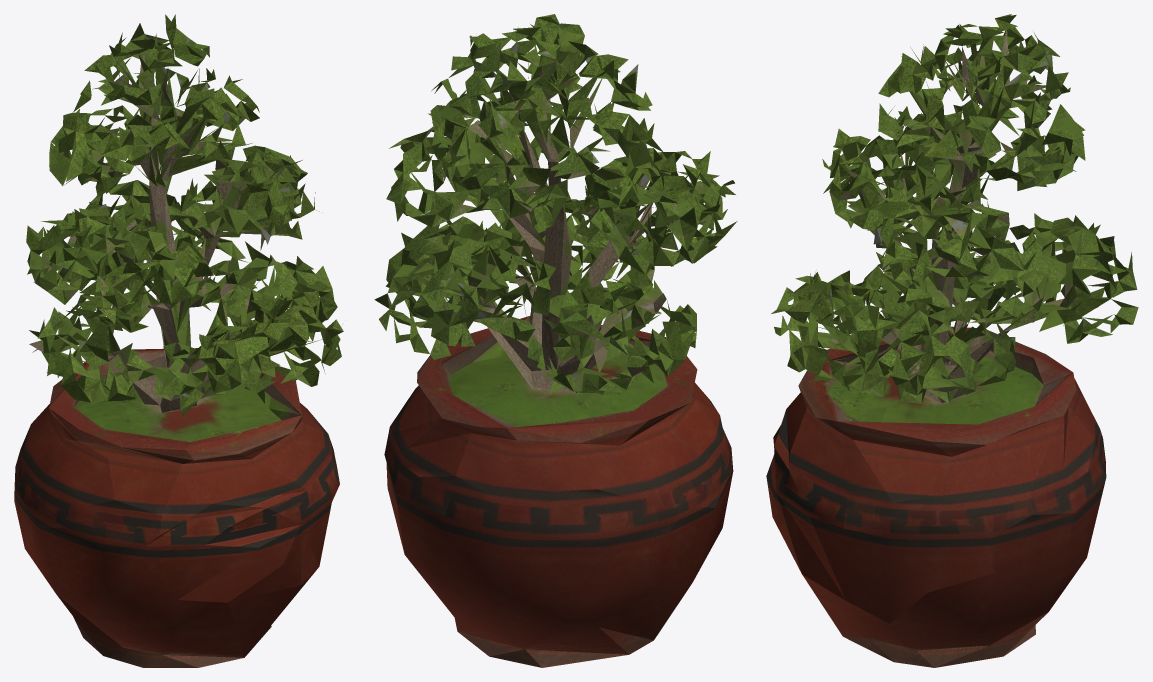
Rendered from potted_shrub.glb.
3 views of the same model, side by side, from view 1: azimuth 30°, elevation 25°; view 2: azimuth 150°, elevation 25°; view 3: azimuth 270°, elevation 25° (orthographic). The views are drawn at different scales.
Visible parts, largest first — view 1: Mesh_0; view 2: Mesh_0; view 3: Mesh_0.
Part boxes in pixels (box(x1,y1,x2,y2)): Mesh_0: box(14, 14, 343, 667); Mesh_0: box(374, 14, 737, 667); Mesh_0: box(766, 14, 1138, 667).
Bounding box in the file's own units: 0.7631 × 1.4 × 0.7788.
1 material, 1 textured.
